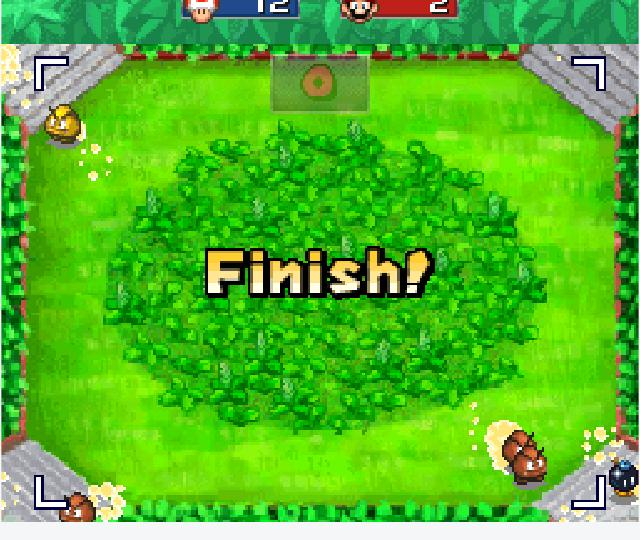bomb: (601, 454, 640, 502)
goomba: (44, 99, 89, 148), (508, 443, 552, 488), (53, 488, 104, 525), (496, 425, 538, 462)
